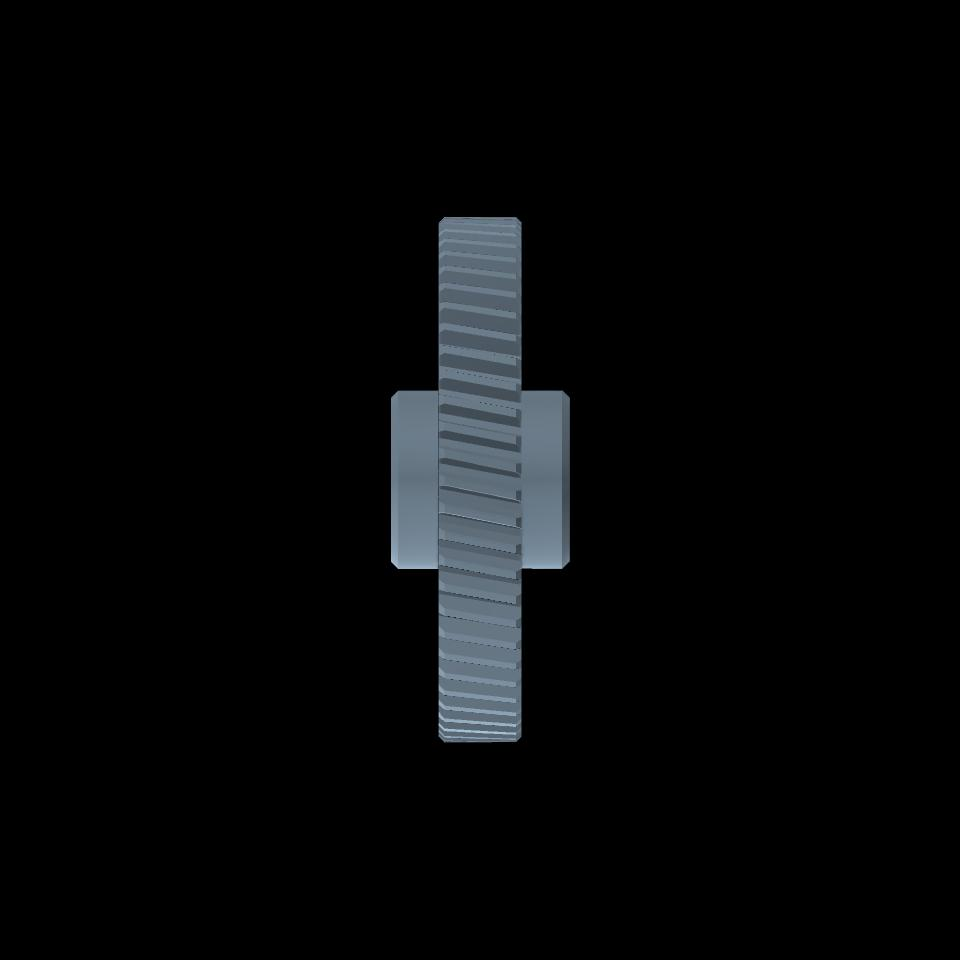Helical: (443, 216, 518, 741)
